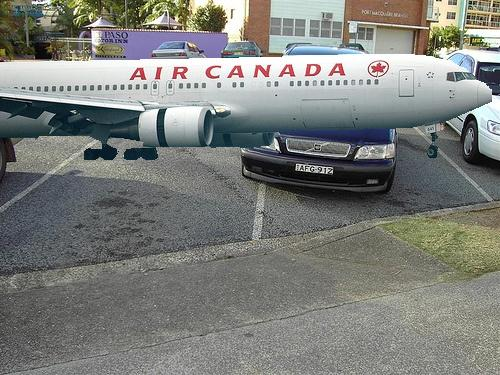tampered: (1, 52, 492, 160)
